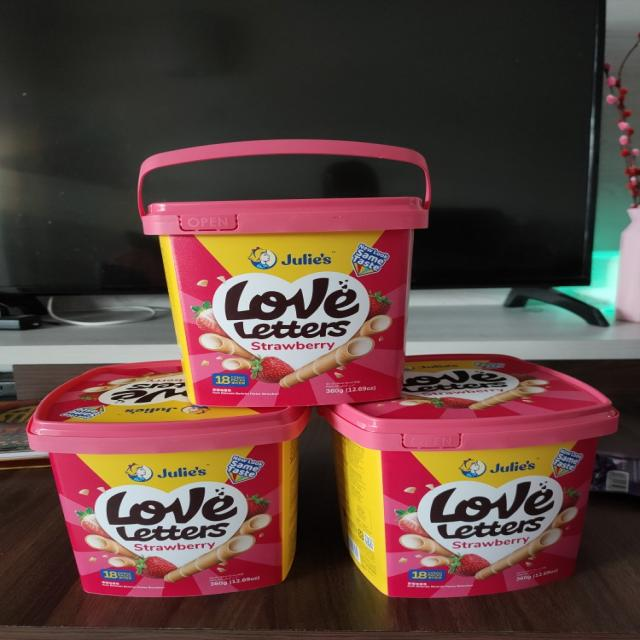plastic: (122, 139, 436, 407), (323, 352, 602, 600), (27, 360, 305, 603)
